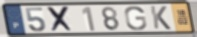1: (82, 6, 96, 32)
5: (24, 6, 47, 33)
8: (101, 6, 121, 31)
G: (123, 6, 148, 32)
K: (149, 5, 173, 31)
X: (46, 5, 75, 33)
